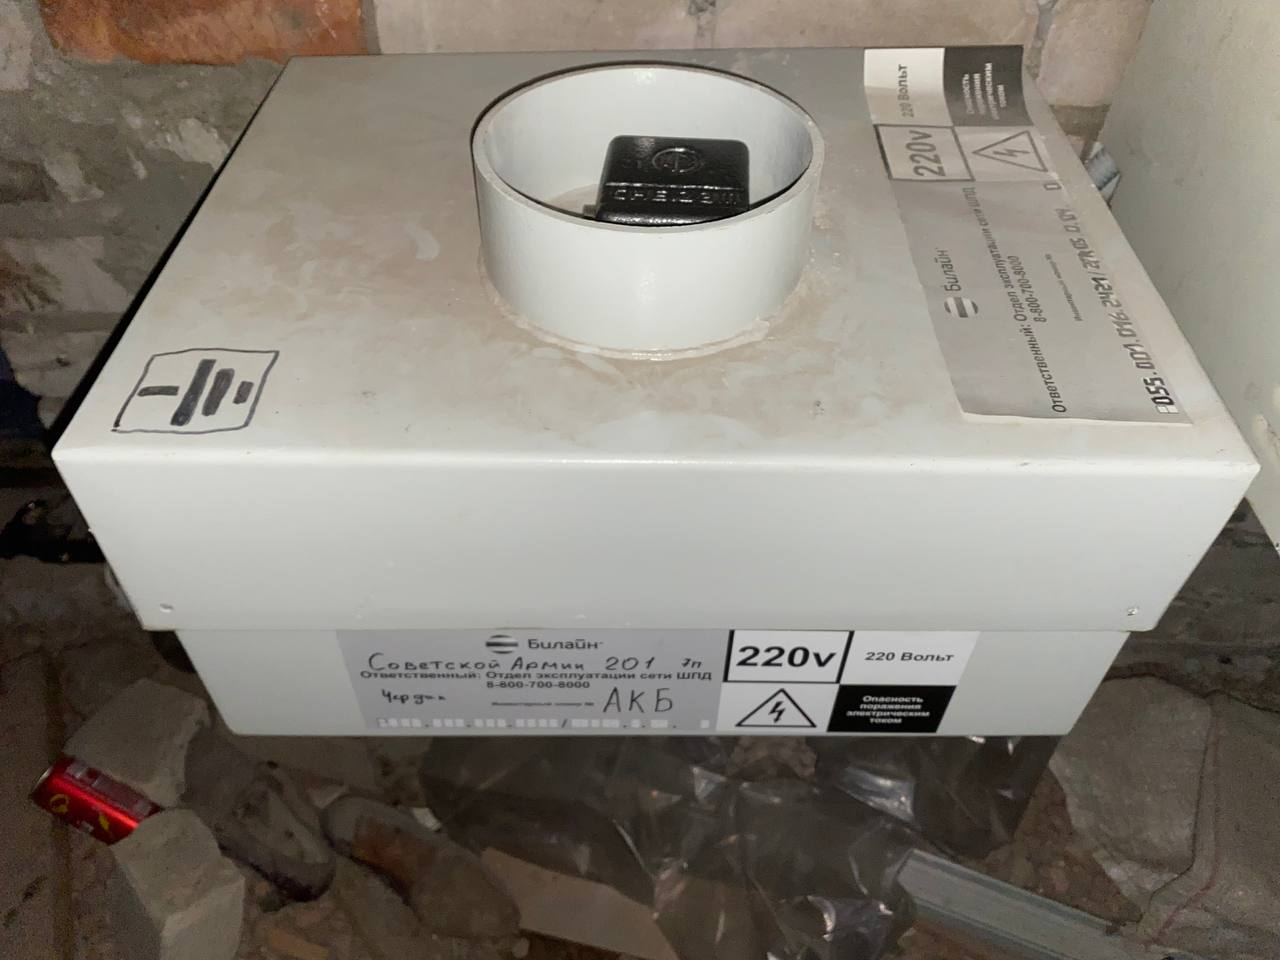shta-ps: (40, 39, 1269, 741)
